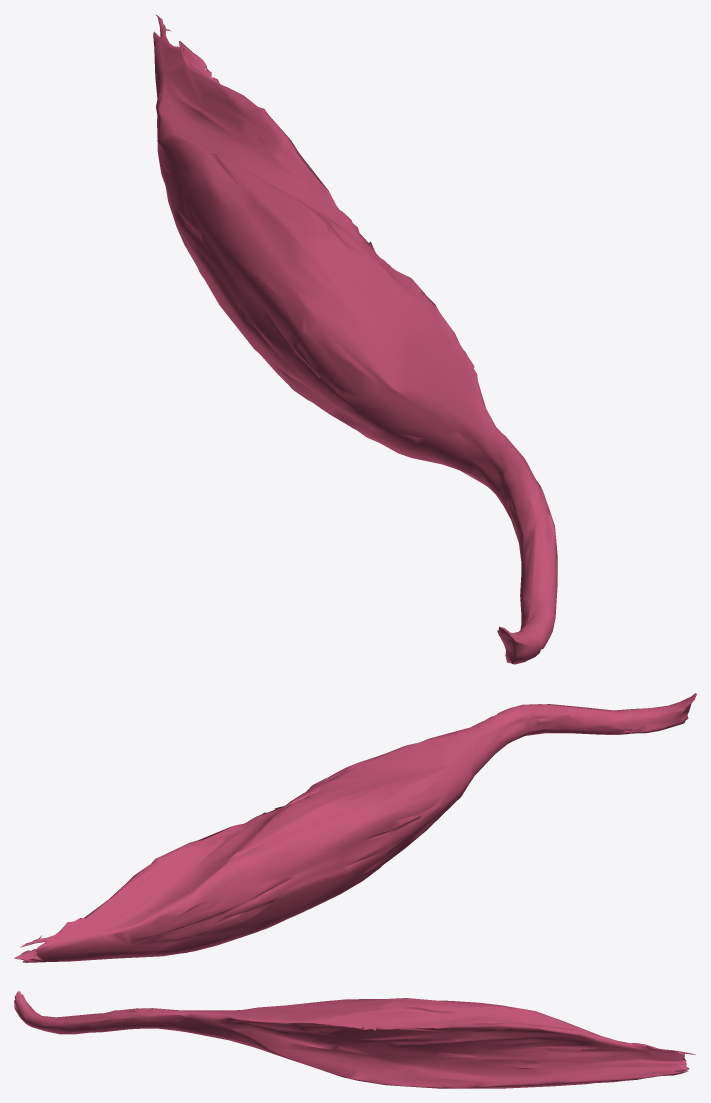
The picture shows the model from 3 angles, top to bottom: view 1: azimuth 30°, elevation 25°; view 2: azimuth 150°, elevation 25°; view 3: azimuth 270°, elevation 25°; orthographic projection. The views are drawn at different scales.
Visible parts, largest first — view 1: 左侧肱二头肌短头; view 2: 左侧肱二头肌短头; view 3: 左侧肱二头肌短头.
Part boxes in pixels (x1,y1,x2,y2): 左侧肱二头肌短头: (153,14,557,664); 左侧肱二头肌短头: (14,693,696,962); 左侧肱二头肌短头: (14,991,695,1088).
Bounding box in the file's own units: 0.1201 × 0.0507 × 0.4023.
